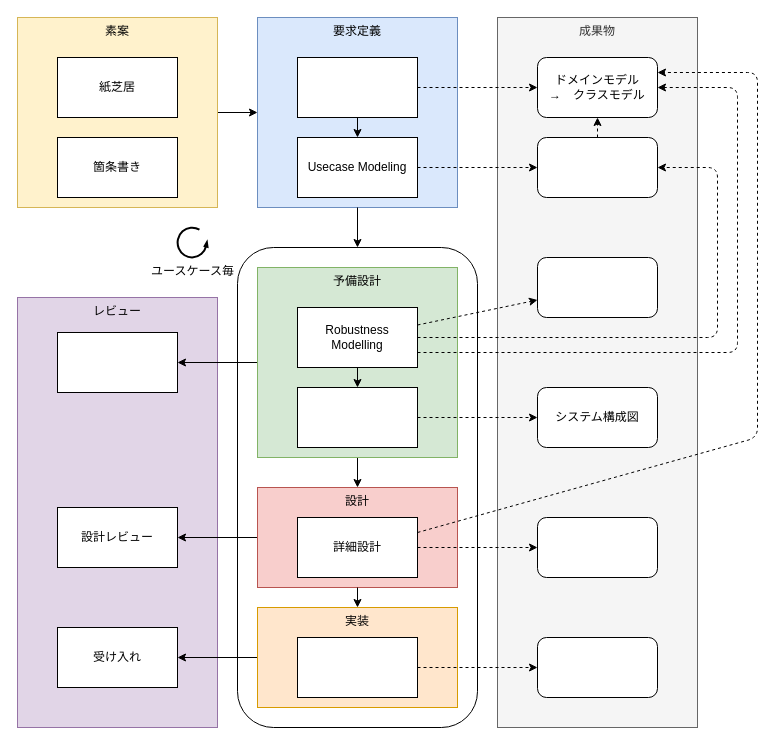
Image size: 783x745. Some labels were removed from this diagram. The centre of each missing label's shape, as x and y in pixels:
Coding: [357,667]
Domain Modeling: [357,87]
Technical Architecture: [357,417]
コード テスト テスト結果: [597,667]
シーケンス図: [597,547]
ユースケース図 ユースケース記述: [597,167]
ロバストネス図: [597,287]
予備設計レビュー: [117,362]
